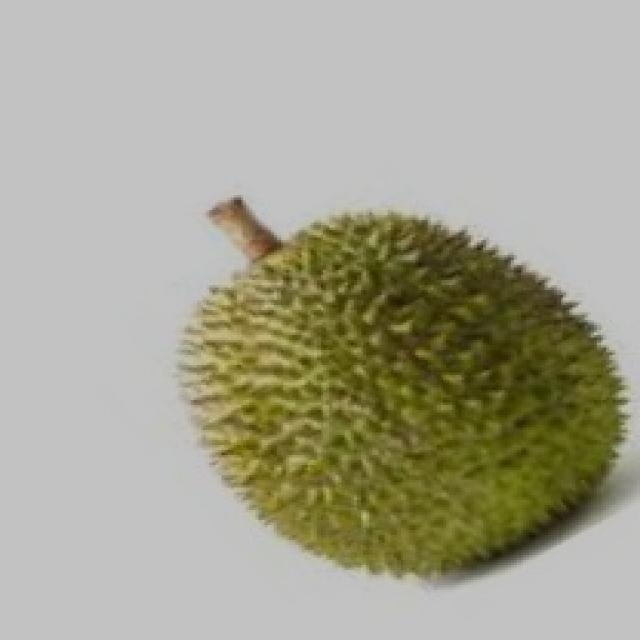fruit: (234, 190, 640, 620)
